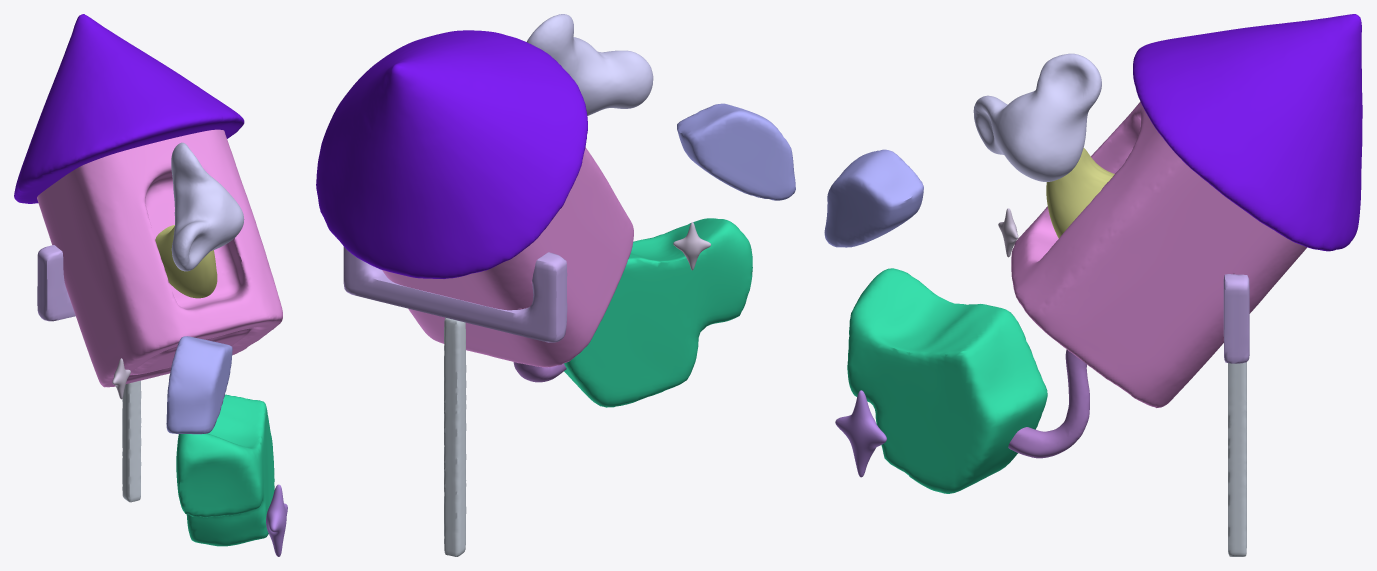
The picture shows the model from 3 angles, left to right: view 1: azimuth 30°, elevation 25°; view 2: azimuth 150°, elevation 25°; view 3: azimuth 270°, elevation 25°; orthographic projection. The views are drawn at different scales.
Parts seen in each view (by area): view 1: Object_25, Object_23, Object_19, Object_9, Object_21, Object_13, Object_15, Object_11, Object_5, Object_3; view 2: Object_23, Object_19, Object_25, Object_21, Object_15, Object_9, Object_13, Object_3, Object_17; view 3: Object_25, Object_23, Object_19, Object_9, Object_21, Object_13, Object_17, Object_11, Object_15, Object_5.
Part boxes in pixels (box(x1,y1,x2,y2)): Object_25: box(37, 129, 282, 387); Object_23: box(14, 14, 244, 203); Object_19: box(176, 394, 274, 546); Object_9: box(171, 142, 244, 271); Object_21: box(166, 336, 232, 434); Object_13: box(122, 380, 141, 502); Object_15: box(37, 245, 75, 321); Object_11: box(155, 225, 217, 298); Object_5: box(266, 484, 287, 556); Object_3: box(112, 358, 130, 399); Object_23: box(316, 30, 587, 278); Object_19: box(564, 218, 752, 407); Object_25: box(382, 147, 633, 367); Object_21: box(677, 103, 795, 200); Object_15: box(343, 247, 567, 342); Object_9: box(527, 14, 653, 115); Object_13: box(444, 317, 466, 556); Object_3: box(673, 222, 710, 270); Object_17: box(513, 362, 566, 382); Object_25: box(1011, 101, 1306, 407); Object_23: box(1133, 14, 1362, 251); Object_19: box(847, 268, 1047, 493); Object_9: box(973, 53, 1101, 181); Object_21: box(824, 149, 923, 247); Object_13: box(1228, 362, 1246, 556); Object_17: box(1008, 349, 1089, 458); Object_11: box(1046, 148, 1114, 238); Object_15: box(1223, 274, 1249, 363); Object_5: box(835, 390, 886, 477).
Bounding box in the file's own units: 0.5327 × 1 × 0.9034.
